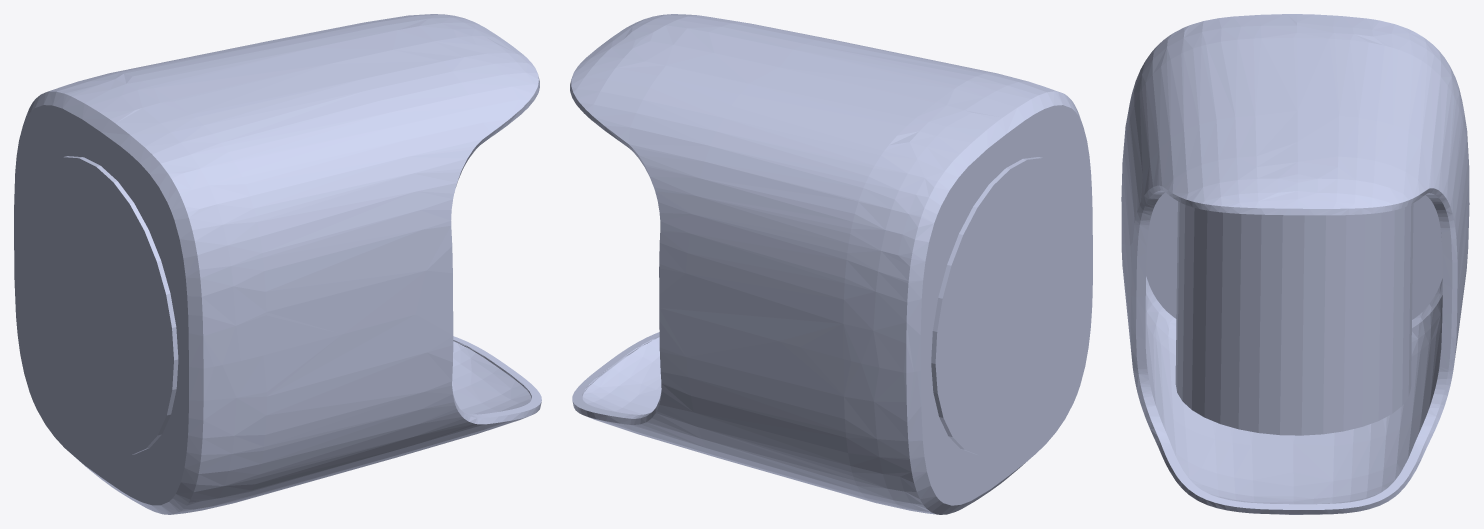
Rendered from right_wrist_roll_link.dae.
3 renders of one model, left to right at view 1: azimuth 30°, elevation 25°; view 2: azimuth 150°, elevation 25°; view 3: azimuth 270°, elevation 25°, orthographic. The views are drawn at different scales.
Parts seen in each view (by area): view 1: right_wrist_roll_link; view 2: right_wrist_roll_link; view 3: right_wrist_roll_link.
Boxes of the visible parts, box(x1,y1,x2,y2) form: right_wrist_roll_link: box(14, 14, 541, 514); right_wrist_roll_link: box(570, 14, 1092, 514); right_wrist_roll_link: box(1121, 14, 1469, 514).
Size of the model in its own units: 0.0931 by 0.081 by 0.0739.
